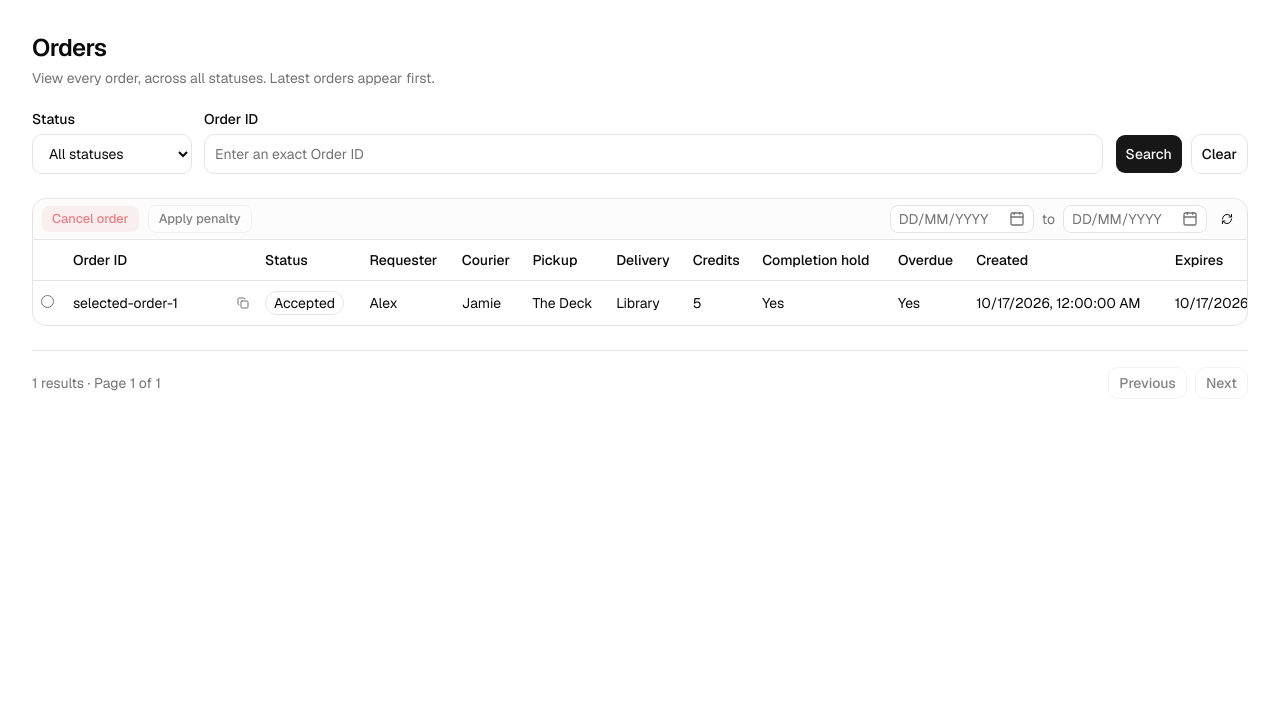
Test: Admin Order row actions › shows an existing penalty clearly and does not offer to waive it on cancellation
Click the radio button named "Select order selected-order-1".
click(48, 301)  # box [41, 294, 54, 308]
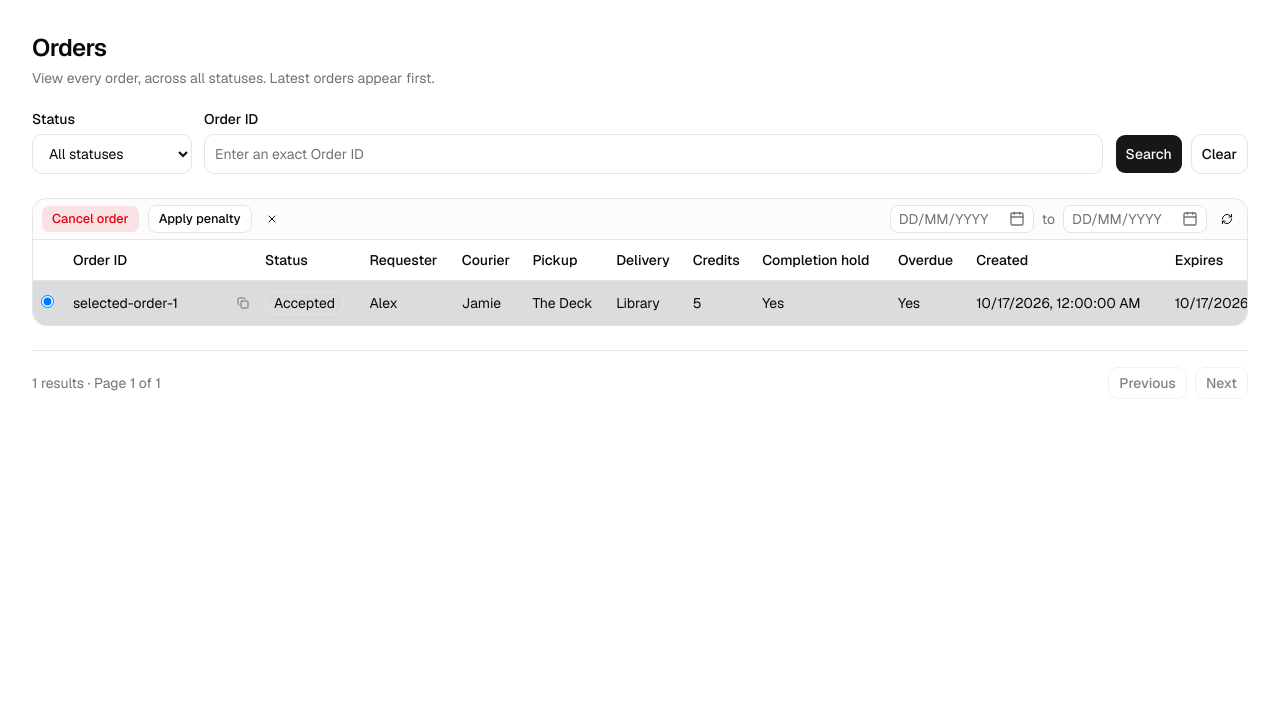
Click the button "Cancel order".
click(90, 219)  # box [41, 205, 140, 233]
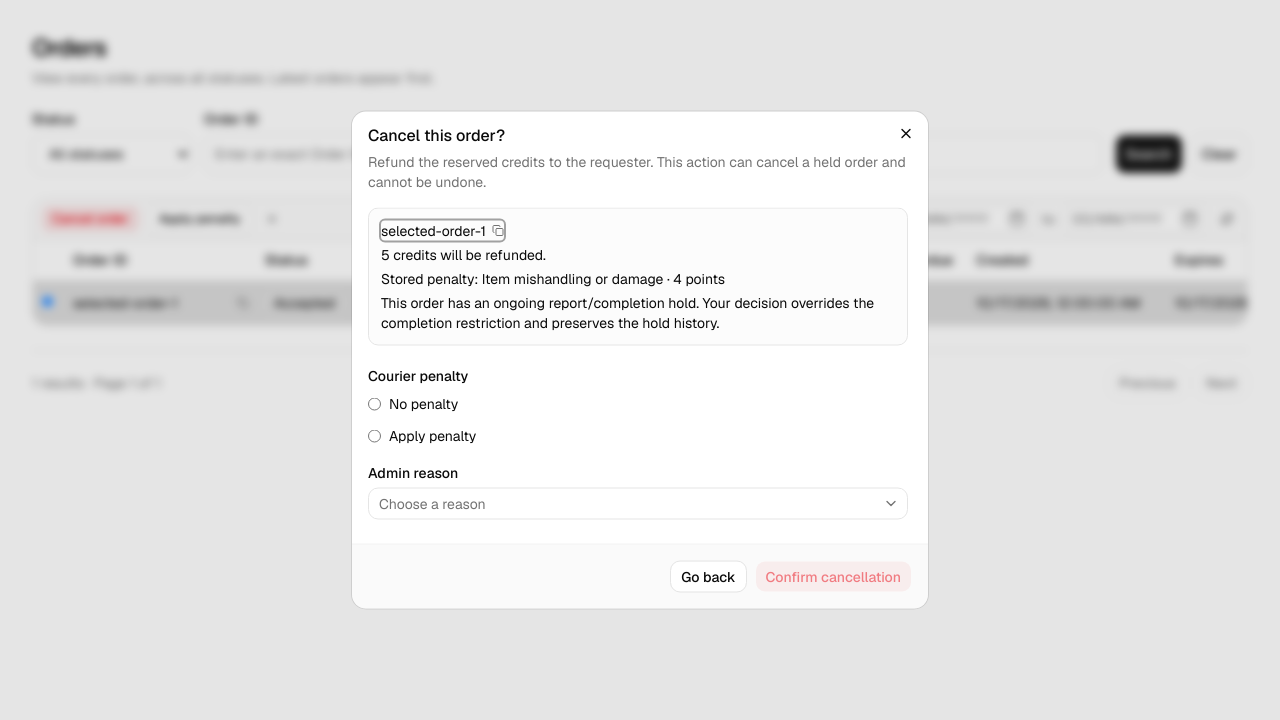
Result: the dialog "Cancel this order?" shows "Stored penalty: Item mishandling or damage · 4 points" at [352, 112, 928, 608]
Result: the radio button labelled "No penalty" is shown at [368, 397, 381, 410]
